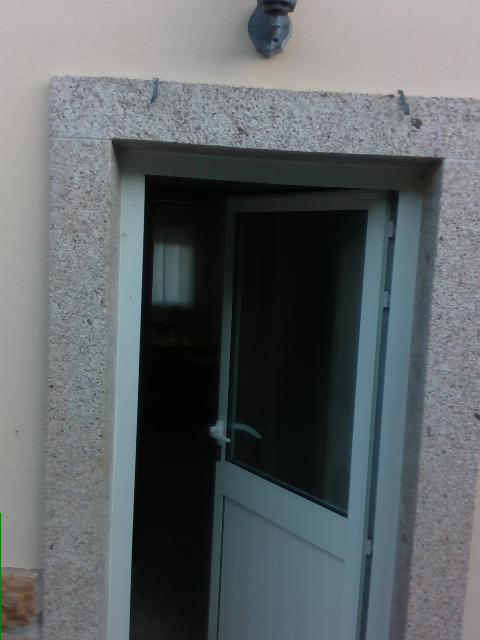semi_door: (106, 134, 442, 639)
